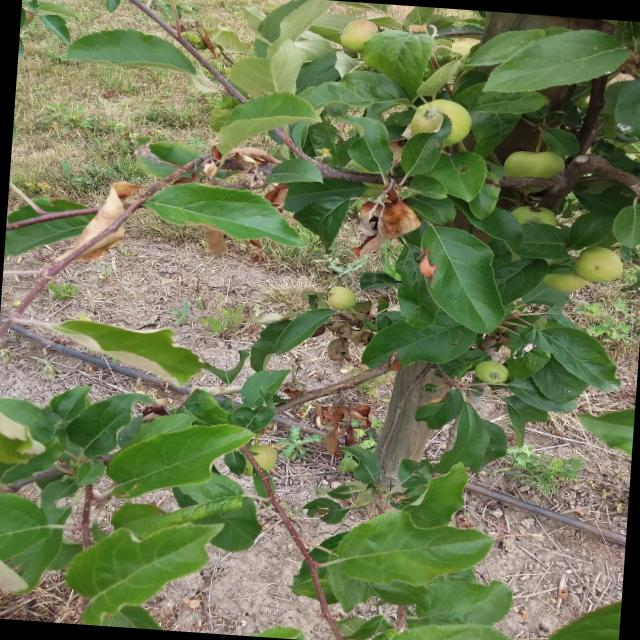-FireBlight-: (67, 168, 138, 274), (363, 182, 416, 265), (314, 396, 374, 458)
